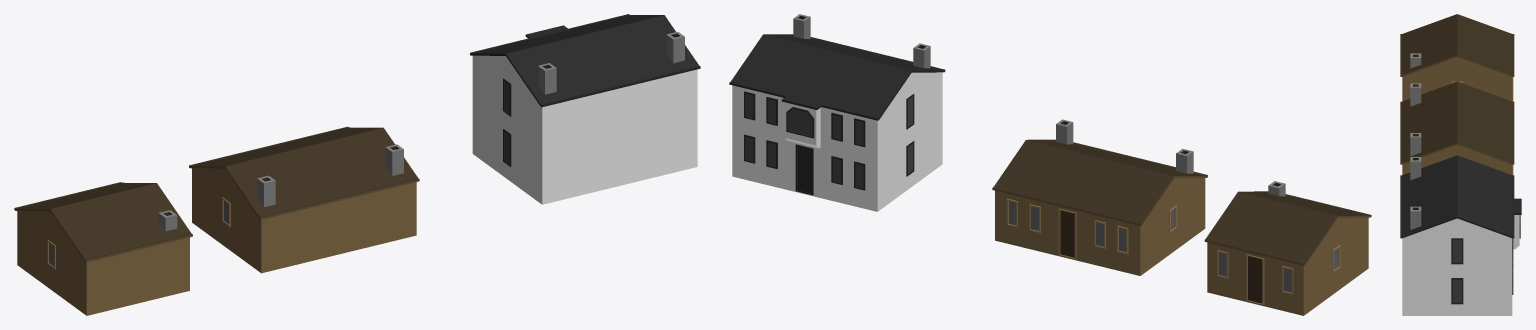
Rendered from Shools.fbx.
3 renders of one model, left to right at view 1: azimuth 30°, elevation 25°; view 2: azimuth 150°, elevation 25°; view 3: azimuth 270°, elevation 25°, orthographic. The views are drawn at different scales.
Parts seen in each view (by area): view 1: School LVL 3, School LVL 2, School LVL 1; view 2: School LVL 3, School LVL 2, School LVL 1; view 3: School LVL 3, School LVL 2, School LVL 1.
Part boxes in pixels (x1=…): School LVL 3: x1=470, y1=14, x2=700, y2=204; School LVL 2: x1=189, y1=126, x2=419, y2=273; School LVL 1: x1=14, y1=182, x2=192, y2=315; School LVL 3: x1=729, y1=14, x2=945, y2=211; School LVL 2: x1=992, y1=119, x2=1207, y2=275; School LVL 1: x1=1204, y1=181, x2=1371, y2=315; School LVL 3: x1=1400, y1=155, x2=1521, y2=315; School LVL 2: x1=1400, y1=81, x2=1514, y2=175; School LVL 1: x1=1400, y1=14, x2=1514, y2=101.
Size of the model in its own units: 3062 by 612 by 660.
